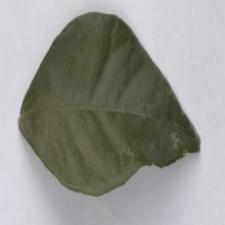Healthy: (30, 19, 182, 180)
